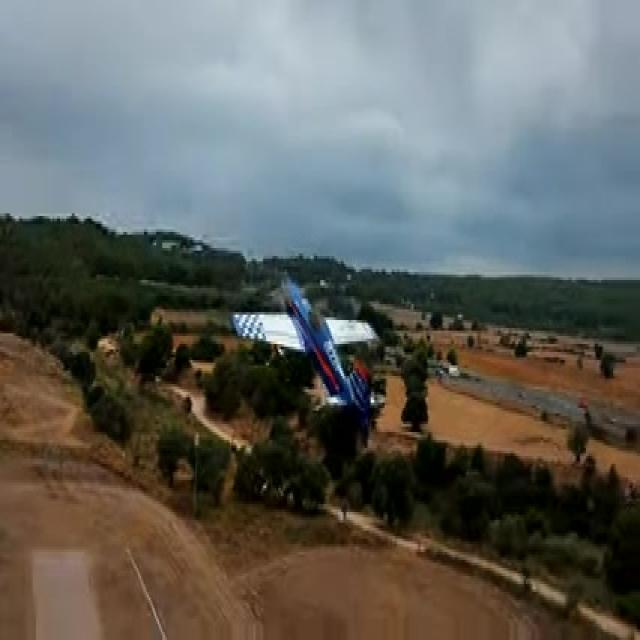iha: (229, 266, 389, 413)
